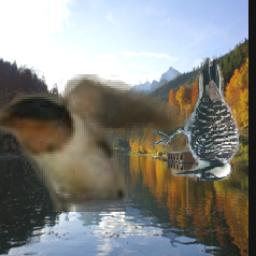Swallow: (0, 74, 190, 212)
Woodpecker: (150, 58, 243, 182)
